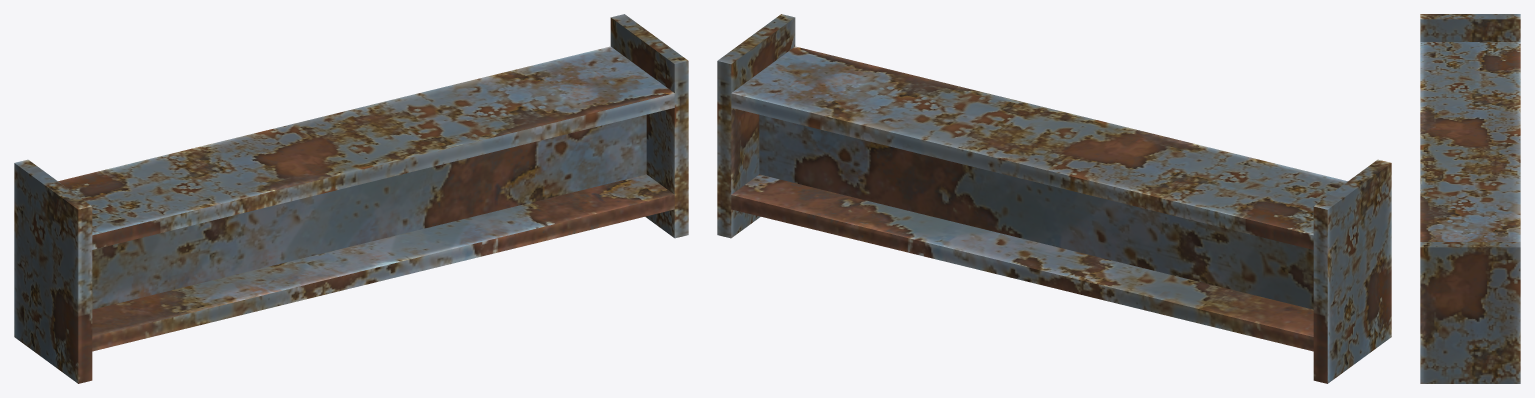
File: platform_beam_1.5m.fbx
The picture shows the model from 3 angles, left to right: view 1: azimuth 30°, elevation 25°; view 2: azimuth 150°, elevation 25°; view 3: azimuth 270°, elevation 25°; orthographic projection. The views are drawn at different scales.
Visible parts, largest first — view 1: platform_beam_1.5m; view 2: platform_beam_1.5m; view 3: platform_beam_1.5m.
Part boxes in pixels (left/top/right/bottom): platform_beam_1.5m: left=14, top=14, right=688, bottom=383; platform_beam_1.5m: left=717, top=14, right=1391, bottom=383; platform_beam_1.5m: left=1420, top=14, right=1520, bottom=383.
Size of the model in its own units: 110 by 30 by 20.
